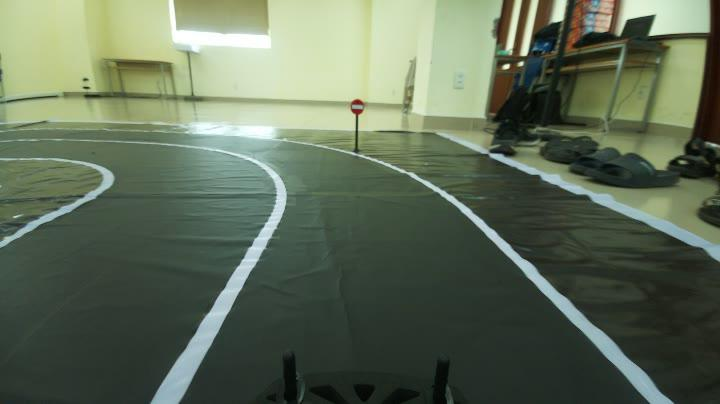no_entry: (346, 94, 367, 117)
